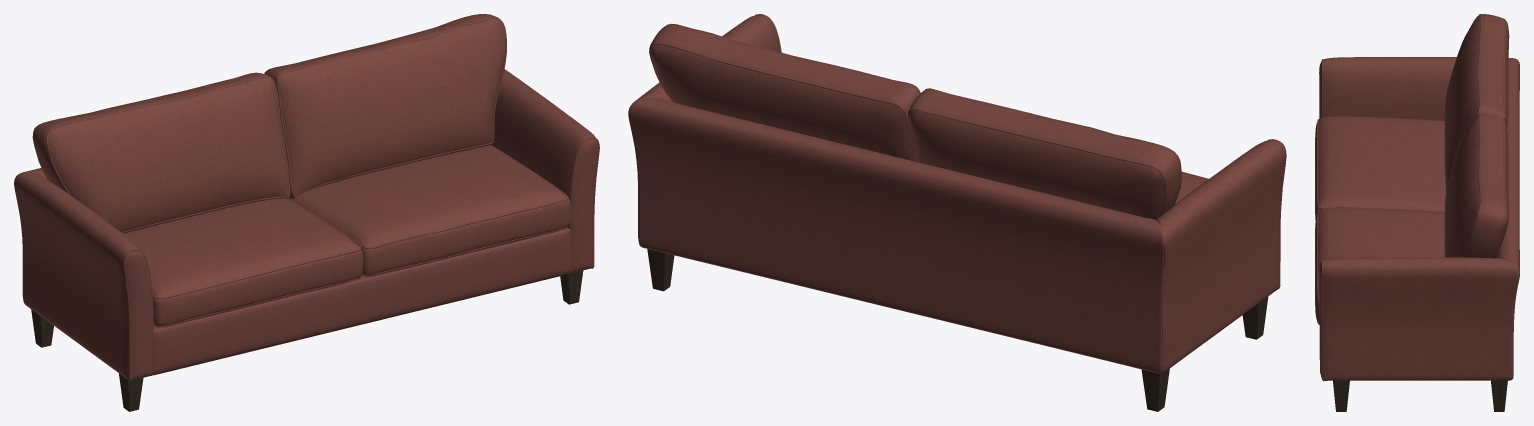
3 views of the same model, side by side, from view 1: azimuth 30°, elevation 25°; view 2: azimuth 150°, elevation 25°; view 3: azimuth 270°, elevation 25° (orthographic). The views are drawn at different scales.
Visible parts, largest first — view 1: Mesh_0; view 2: Mesh_0; view 3: Mesh_0.
Part boxes in pixels (x1,y1,x2,y2): Mesh_0: [14, 14, 599, 411]; Mesh_0: [628, 14, 1286, 411]; Mesh_0: [1315, 14, 1519, 411].
Bounding box in the file's own units: 2.07 × 0.9394 × 0.8504.
1 material, 1 textured.
